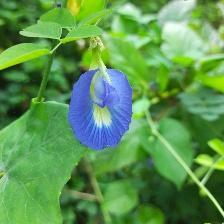shankupushpam: (67, 64, 138, 154)
